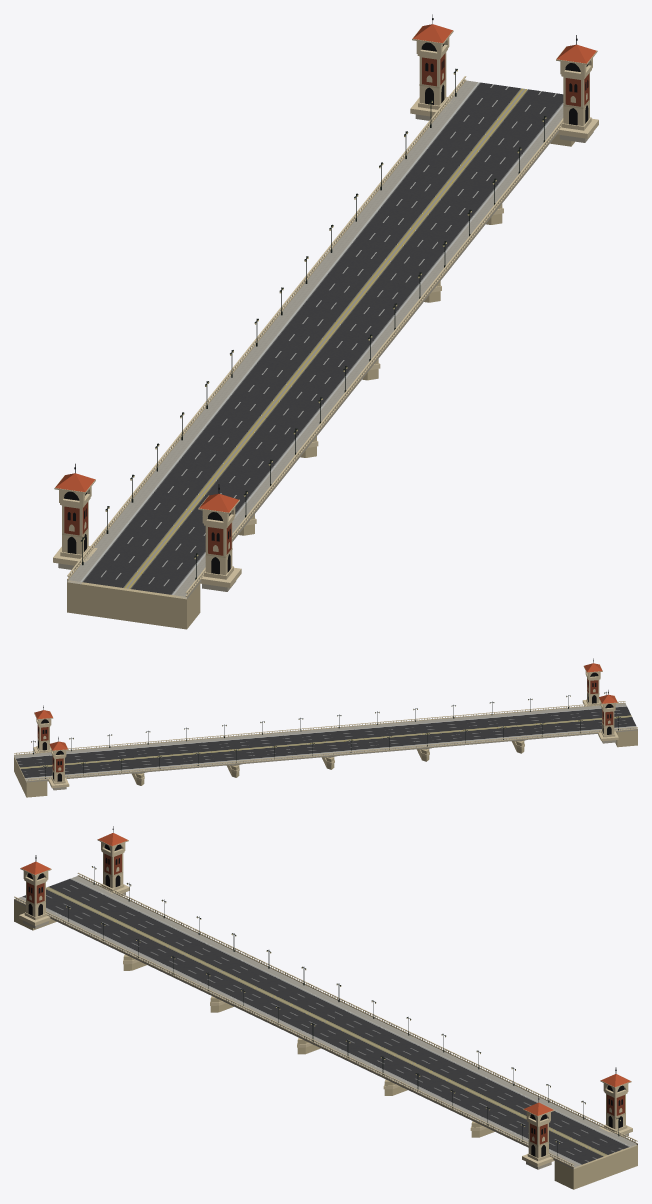
Rendered from stanley-bridge.glb.
3 renders of one model, top to bottom at view 1: azimuth 30°, elevation 25°; view 2: azimuth 150°, elevation 25°; view 3: azimuth 270°, elevation 25°, orthographic. The views are drawn at different scales.
Parts seen in each view (by area): view 1: StanleyBridge; view 2: StanleyBridge; view 3: StanleyBridge.
Boxes of the visible parts, x1,y1,x2,y2 form: StanleyBridge: [53, 14, 598, 629]; StanleyBridge: [14, 658, 637, 797]; StanleyBridge: [14, 826, 637, 1189].
Size of the model in its own units: 242 by 31.9 by 218.
Materials: 2 (2 with a texture image).
